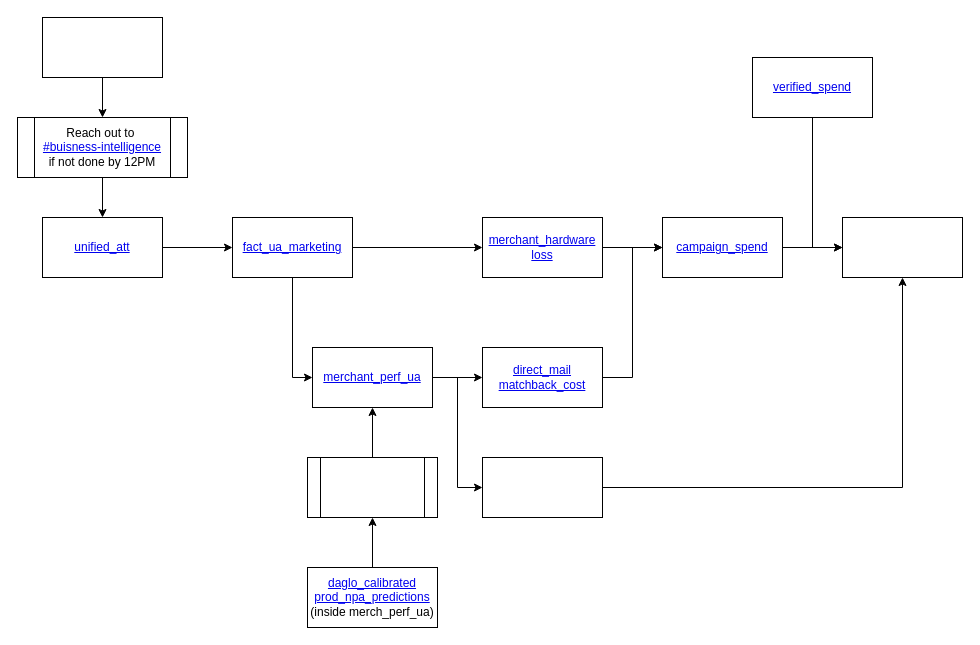
Image size: 980x645. Some labels were removed from this diagram. The shapes that lost their labels are listed below. From the top down, each one's centre as x and y in pixels, then its label:
(102,47): daglo_vfact touchpoints
(902,247): marketing measurement
(372,487): if predictions is not complete by 1PM mark as success
(542,487): merch_prod npa_perf
